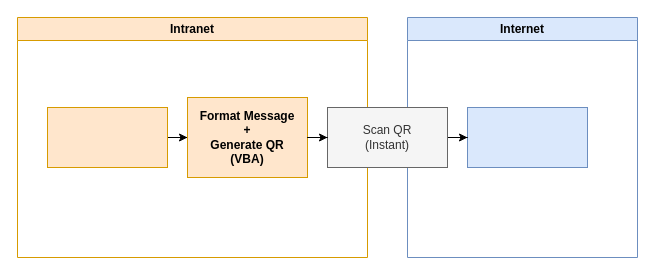
Some shapes in this 655 by 275 pixel diagram are drawn without their labels. The shapes that lost their labels are listed below. From the top down, each one's centre as x and y in pixels, then its label:
(x=107, y=137): Planned Manpower (Excel)
(x=527, y=137): Disseminate
